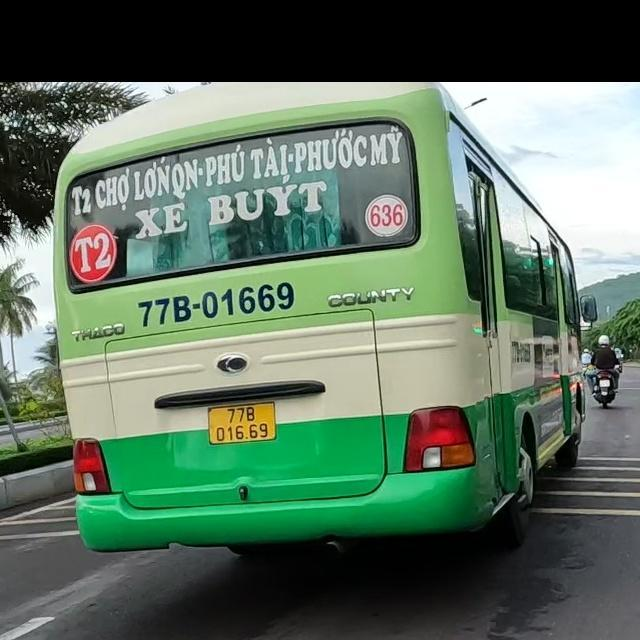car: (49, 82, 591, 560)
motorcycle: (591, 369, 621, 408)
plate: (202, 397, 289, 446)
